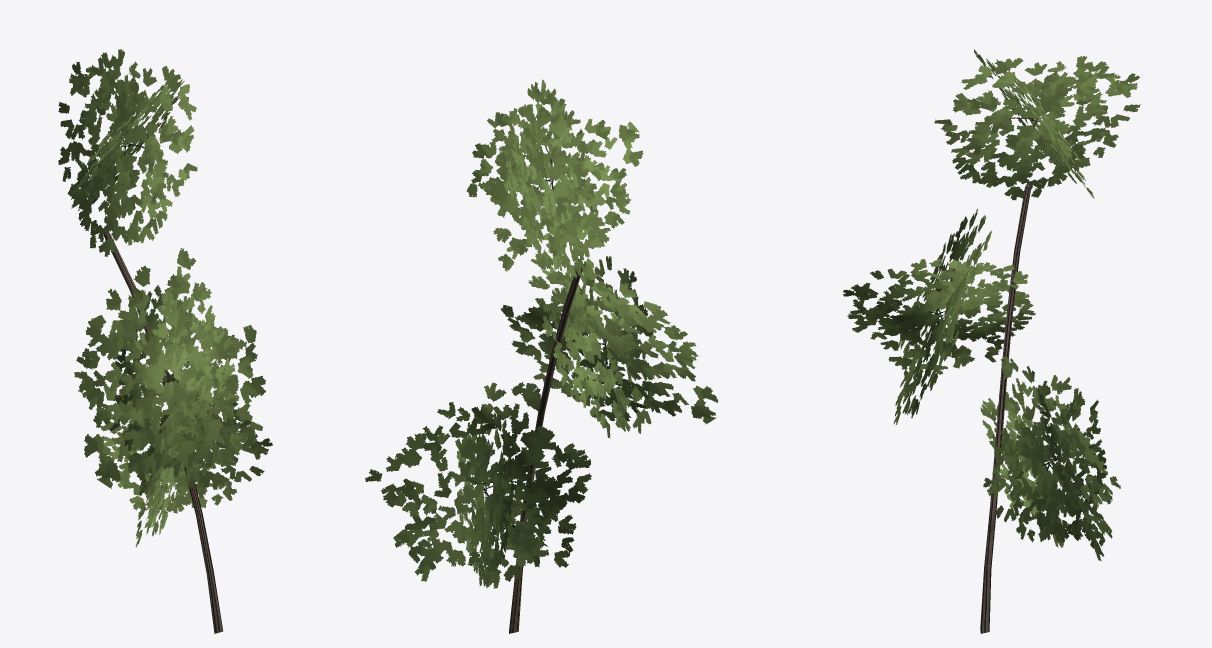
Rendered from seedling-a.lod1.glb.
3 views of the same model, side by side, from view 1: azimuth 30°, elevation 25°; view 2: azimuth 150°, elevation 25°; view 3: azimuth 270°, elevation 25° (orthographic).
Parts seen in each view (by area): view 1: foliage, bark; view 2: foliage, bark; view 3: foliage, bark.
Boxes of the visible parts, x1,y1,x2,y2 form: foliage: (58,49,272,547); bark: (104,231,223,633); foliage: (365,79,718,588); bark: (509,263,584,633); foliage: (843,49,1140,561); bark: (980,183,1031,633).
Size of the model in its own units: 0.1934 by 0.35 by 0.2038.
Materials: 2 (2 with a texture image).
